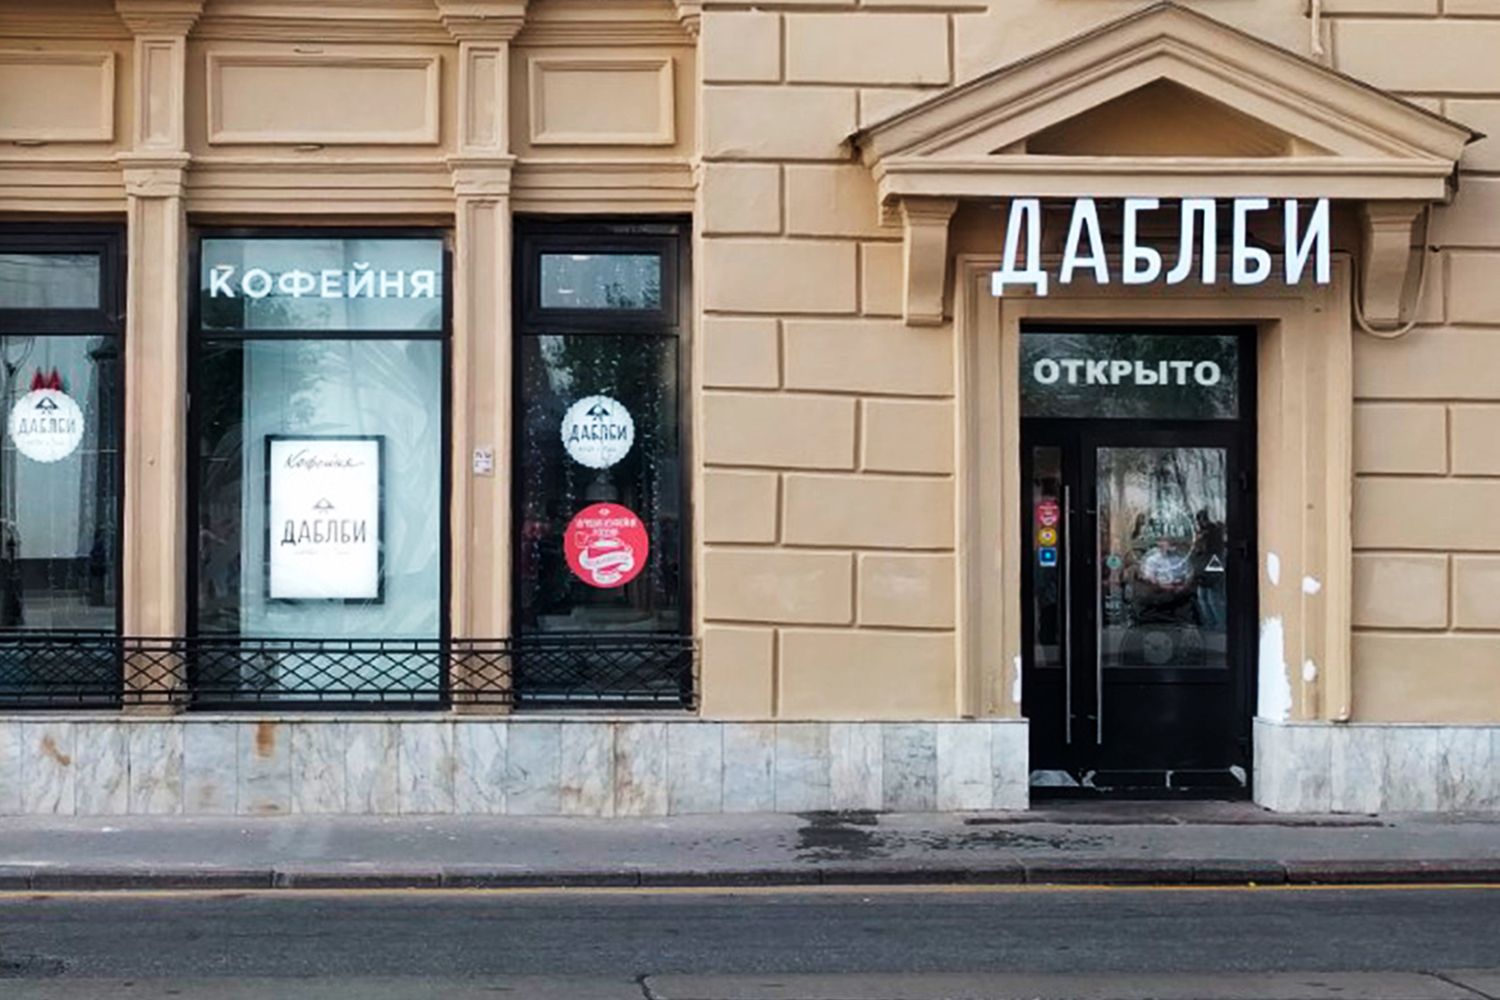door: (1020, 432, 1260, 799)
signboard: (996, 200, 1329, 304)
win_ad: (544, 387, 669, 604), (265, 432, 379, 600), (200, 252, 437, 312), (1031, 342, 1229, 403), (4, 382, 92, 468)
window: (187, 228, 456, 705), (516, 222, 690, 700), (1, 213, 129, 683), (1015, 312, 1247, 424)
